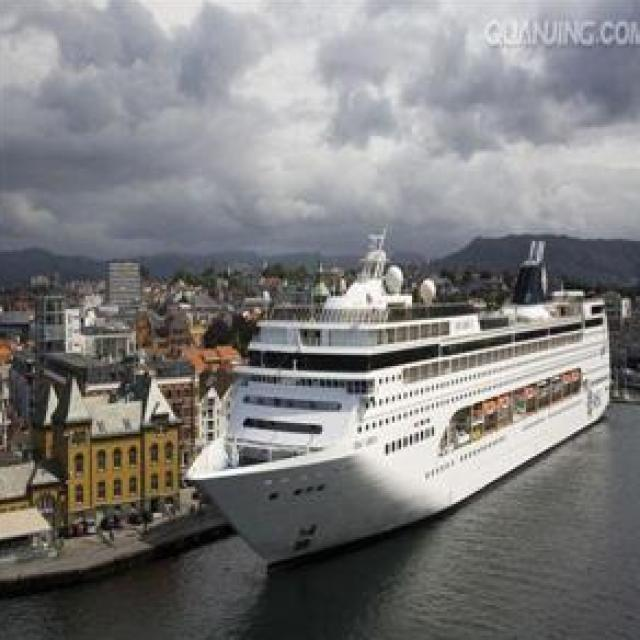passenger ship: (194, 233, 619, 553)
